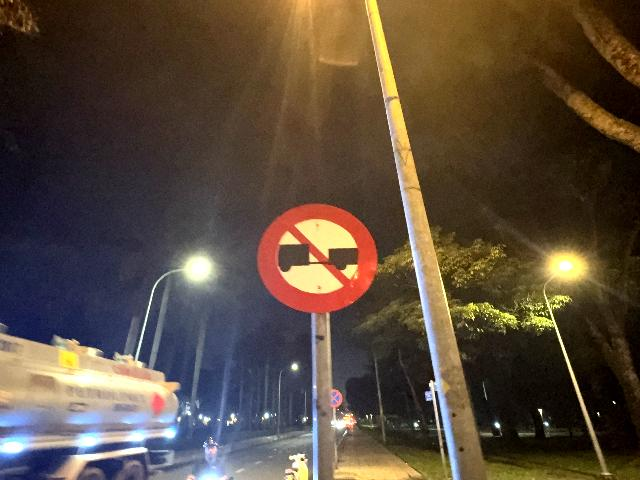cam-xe-somi-romooc: (256, 203, 379, 314)
